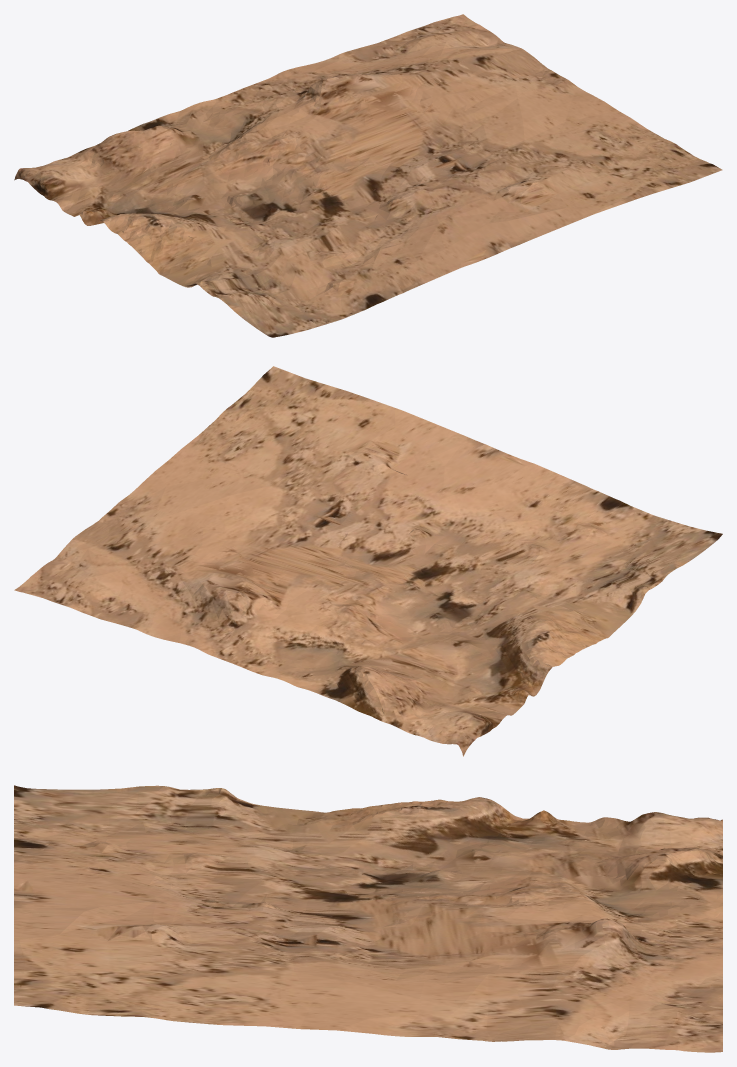
3 renders of one model, top to bottom at view 1: azimuth 30°, elevation 25°; view 2: azimuth 150°, elevation 25°; view 3: azimuth 270°, elevation 25°, orthographic. The views are drawn at different scales.
Size of the model in its own units: 4.18 by 0.8091 by 4.18.
Materials: 2 (2 with a texture image).
